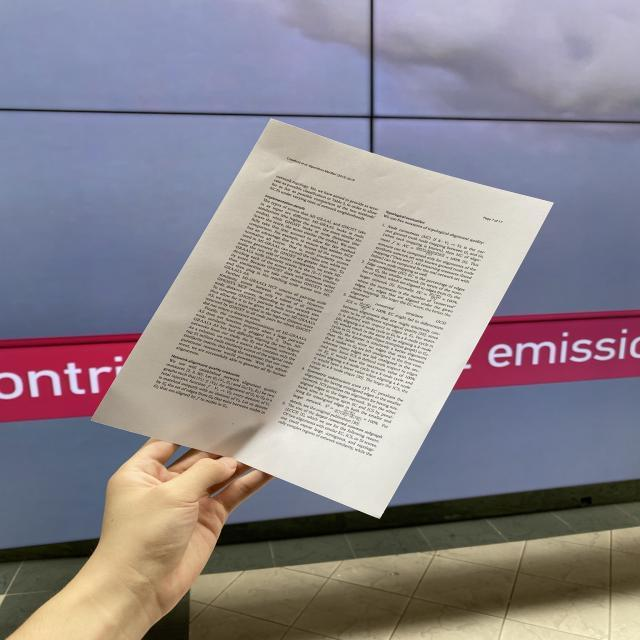document: (93, 120, 552, 516)
